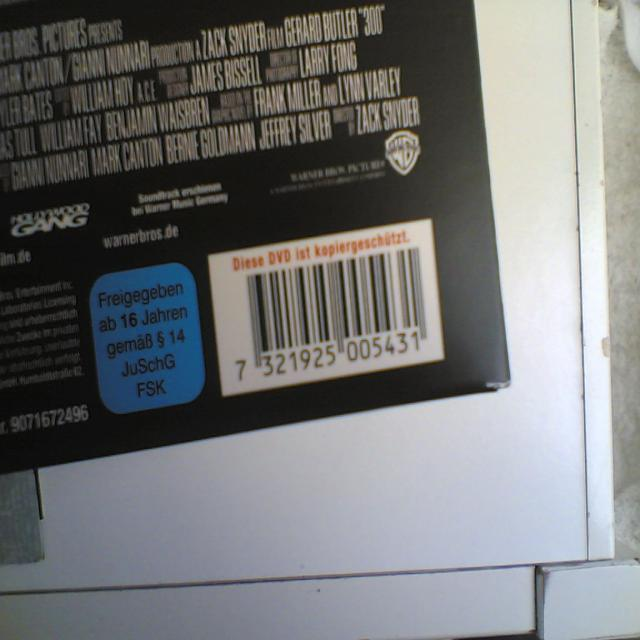barcode: (209, 218, 445, 397)
